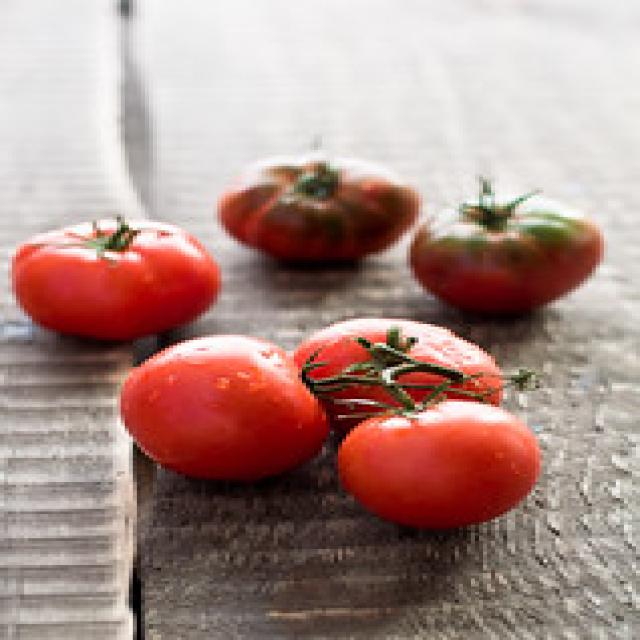Tomato: (113, 331, 330, 489), (334, 379, 544, 533), (276, 313, 508, 418)
